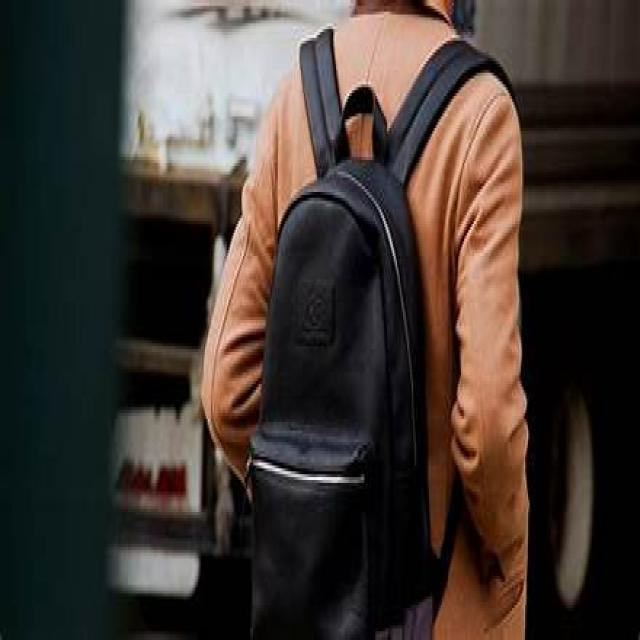backpack: (246, 13, 521, 638)
